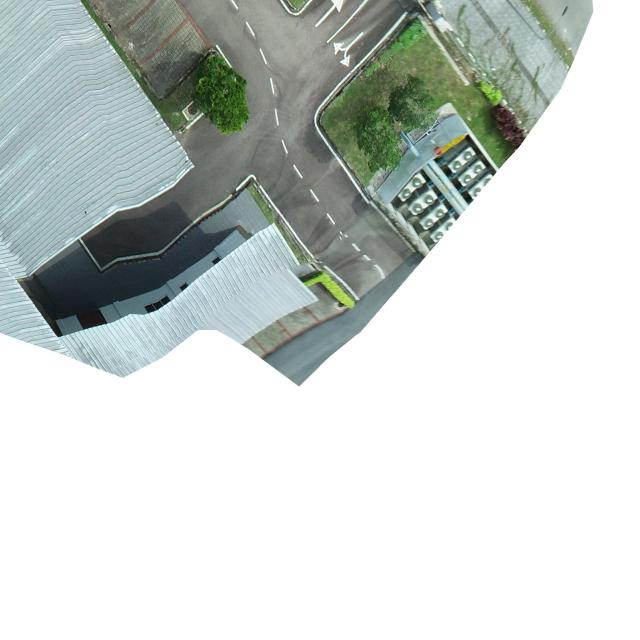Tree: (191, 54, 251, 139), (352, 103, 403, 173), (386, 73, 434, 133)
